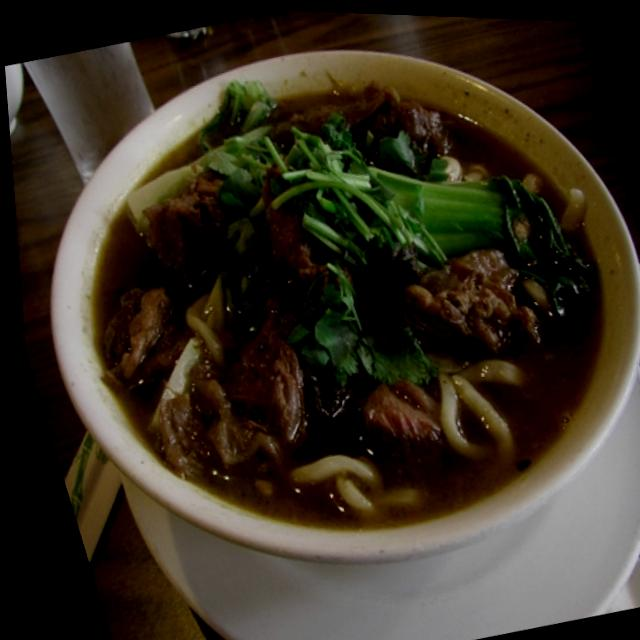面条主食: (9, 0, 640, 609)
